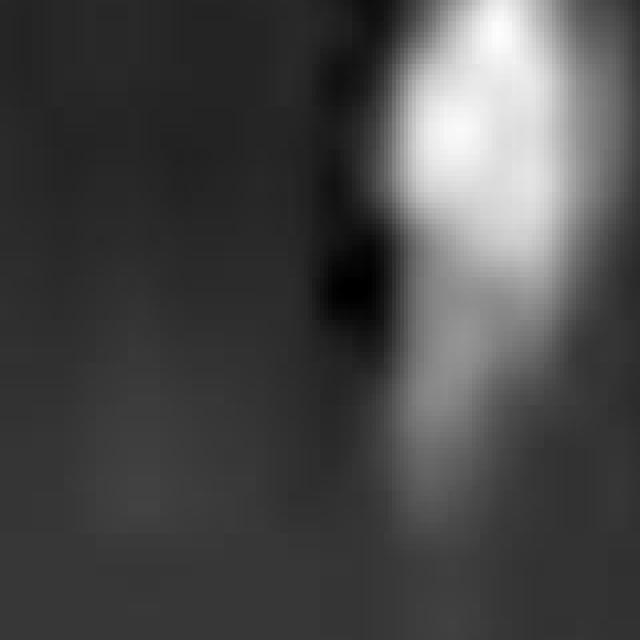person: (361, 1, 633, 518)
